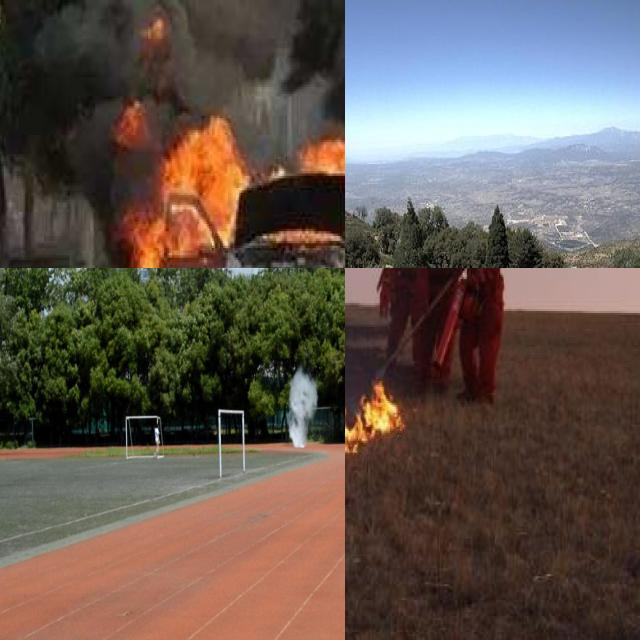fire: (119, 79, 345, 268), (345, 382, 402, 560)
smoke: (0, 0, 345, 183), (285, 366, 319, 449)
